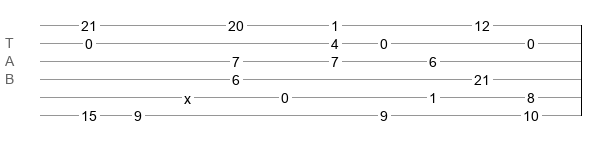0: (85, 36, 93, 46), (281, 90, 289, 100), (380, 36, 388, 46), (527, 36, 535, 46)
1: (331, 18, 339, 28), (429, 90, 437, 100)
10: (523, 108, 539, 118)
12: (474, 18, 490, 28)
15: (81, 108, 97, 118)
20: (228, 18, 244, 28)
21: (81, 18, 97, 28), (474, 72, 490, 82)
4: (331, 36, 339, 46)
6: (232, 72, 240, 82), (429, 54, 437, 64)
7: (232, 54, 240, 64), (331, 54, 339, 64)
8: (527, 90, 535, 100)
9: (134, 108, 142, 118), (380, 108, 388, 118)
x: (184, 91, 191, 99)
